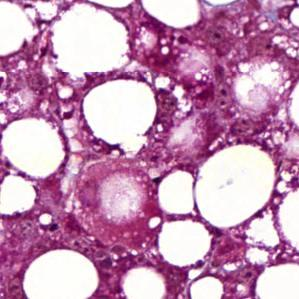steatosis: (195, 145, 279, 222), (78, 82, 164, 157)
